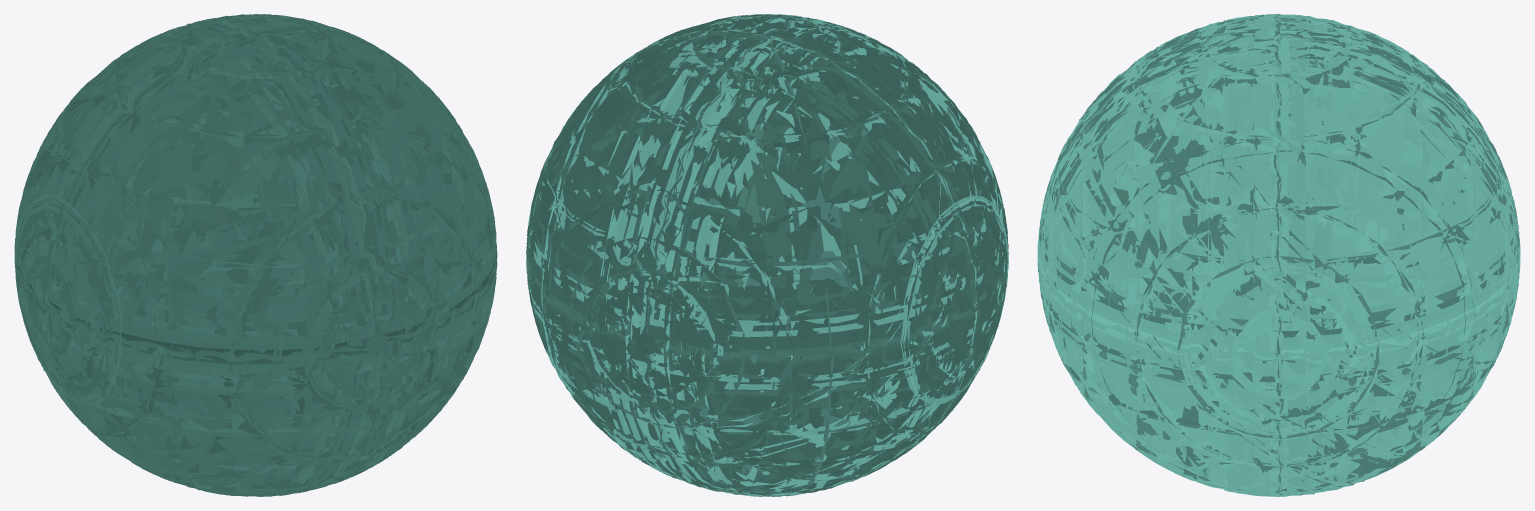
Rendered from sys-dsf-steel_piping.glb.
3 views of the same model, side by side, from view 1: azimuth 30°, elevation 25°; view 2: azimuth 150°, elevation 25°; view 3: azimuth 270°, elevation 25° (orthographic).
Parts seen in each view (by area): view 1: TS-dsf-steel_piping-333, TS-dsf-steel_piping-102, TS-dsf-steel_piping-203, TS-dsf-steel_piping-261, TS-dsf-steel_piping-912, TS-dsf-steel_piping-263, TS-dsf-steel_piping-152, TS-dsf-steel_piping-260, TS-dsf-steel_piping-324, TS-dsf-steel_piping-328, TS-dsf-steel_piping-104, TS-dsf-steel_piping-202 (+5 smaller); view 2: TS-dsf-steel_piping-333, TS-dsf-steel_piping-102, TS-dsf-steel_piping-203, TS-dsf-steel_piping-261, TS-dsf-steel_piping-263, TS-dsf-steel_piping-912, TS-dsf-steel_piping-346, TS-dsf-steel_piping-328, TS-dsf-steel_piping-324, TS-dsf-steel_piping-347, TS-dsf-steel_piping-260, TS-dsf-steel_piping-152 (+5 smaller); view 3: TS-dsf-steel_piping-333, TS-dsf-steel_piping-203, TS-dsf-steel_piping-102, TS-dsf-steel_piping-263, TS-dsf-steel_piping-912, TS-dsf-steel_piping-261, TS-dsf-steel_piping-346, TS-dsf-steel_piping-152, TS-dsf-steel_piping-324, TS-dsf-steel_piping-104, TS-dsf-steel_piping-260, TS-dsf-steel_piping-328 (+5 smaller).
Boxes of the visible parts, x1,y1,x2,y2 form: TS-dsf-steel_piping-333: (14,14,497,496); TS-dsf-steel_piping-102: (15,15,496,495); TS-dsf-steel_piping-203: (18,14,496,496); TS-dsf-steel_piping-261: (15,14,495,496); TS-dsf-steel_piping-912: (18,14,489,495); TS-dsf-steel_piping-263: (14,14,497,496); TS-dsf-steel_piping-152: (16,16,494,495); TS-dsf-steel_piping-260: (16,17,495,487); TS-dsf-steel_piping-324: (15,14,496,496); TS-dsf-steel_piping-328: (15,15,494,492); TS-dsf-steel_piping-104: (15,18,496,492); TS-dsf-steel_piping-202: (20,14,494,495); TS-dsf-steel_piping-333: (526,14,1008,496); TS-dsf-steel_piping-102: (527,17,1007,492); TS-dsf-steel_piping-203: (526,16,1008,496); TS-dsf-steel_piping-261: (528,14,1008,495); TS-dsf-steel_piping-263: (526,14,1008,496); TS-dsf-steel_piping-912: (526,16,1008,492); TS-dsf-steel_piping-346: (530,14,1005,496); TS-dsf-steel_piping-328: (526,15,1005,495); TS-dsf-steel_piping-324: (526,14,1007,496); TS-dsf-steel_piping-347: (527,15,1002,494); TS-dsf-steel_piping-260: (529,15,1005,496); TS-dsf-steel_piping-152: (527,14,1007,495); TS-dsf-steel_piping-333: (1037,15,1520,496); TS-dsf-steel_piping-203: (1040,14,1518,496); TS-dsf-steel_piping-102: (1037,15,1520,496); TS-dsf-steel_piping-263: (1038,15,1520,463); TS-dsf-steel_piping-912: (1043,14,1517,496); TS-dsf-steel_piping-261: (1039,14,1518,491); TS-dsf-steel_piping-346: (1045,15,1515,492); TS-dsf-steel_piping-152: (1037,14,1520,496); TS-dsf-steel_piping-324: (1037,15,1520,495); TS-dsf-steel_piping-104: (1037,14,1519,495); TS-dsf-steel_piping-260: (1040,14,1520,496); TS-dsf-steel_piping-328: (1038,14,1519,496).
Size of the model in its own units: 2 by 2 by 2.
